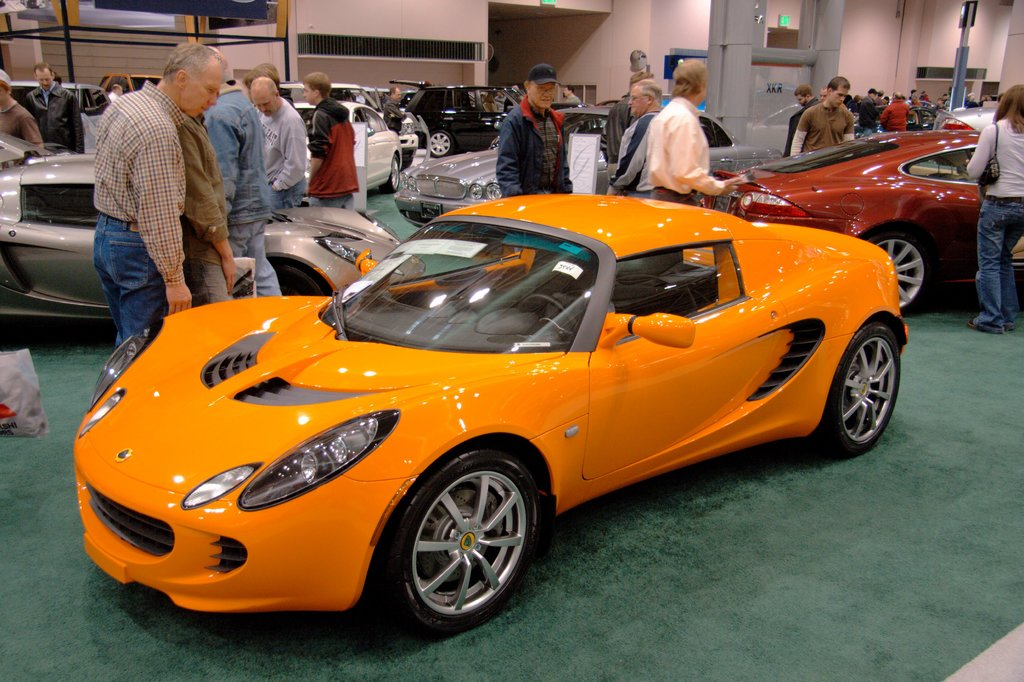person: (19, 61, 84, 153)
